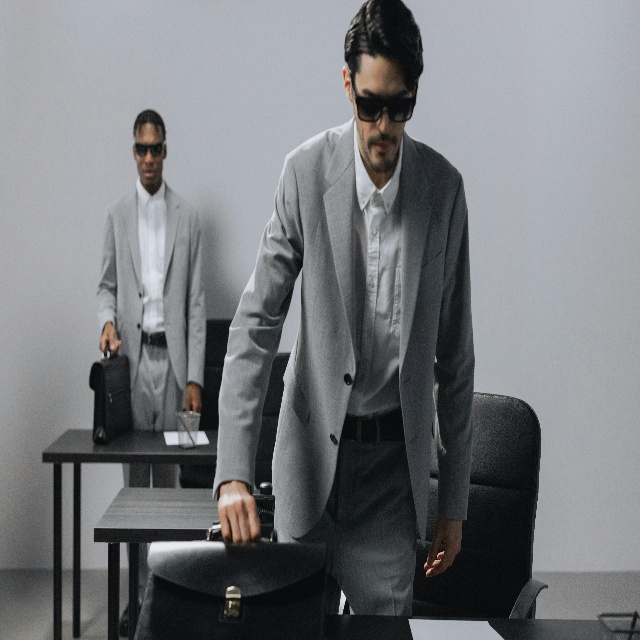Gafas: (349, 72, 418, 124), (135, 142, 162, 158)
Sin_guantes: (217, 484, 260, 543), (423, 515, 462, 577), (99, 322, 122, 357), (186, 383, 202, 415)
